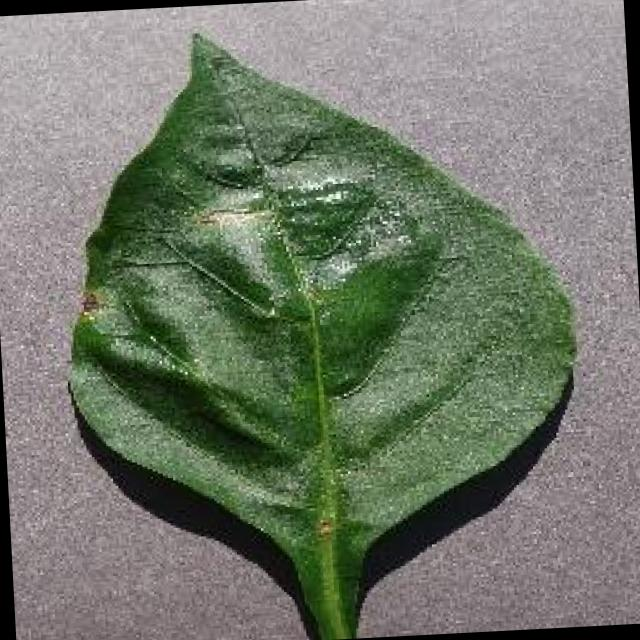Chilli_Bacterial_Spot: (45, 7, 594, 640), (172, 109, 444, 407), (73, 286, 105, 323), (310, 512, 340, 546)
